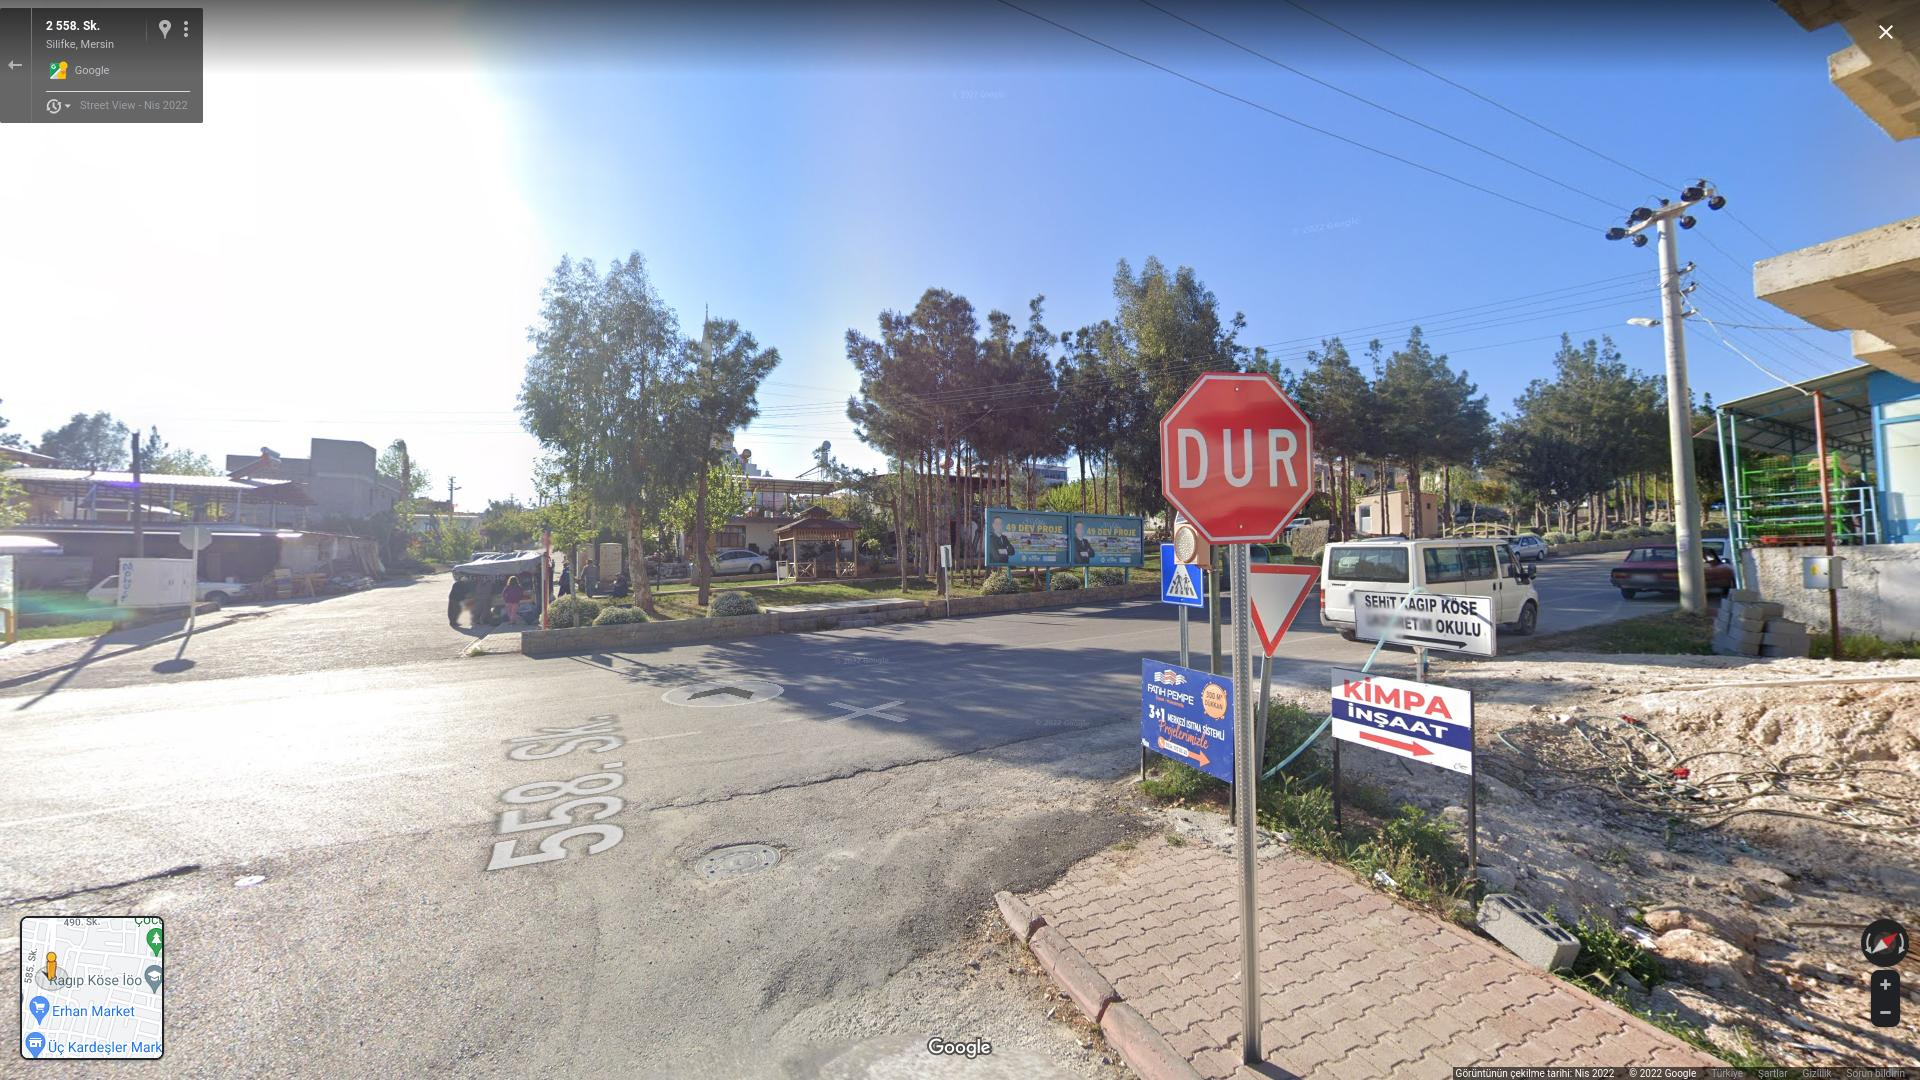stop: (1162, 364, 1315, 535)
